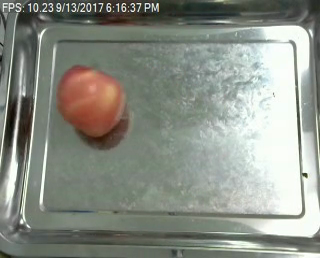Apple: (56, 64, 125, 138)
